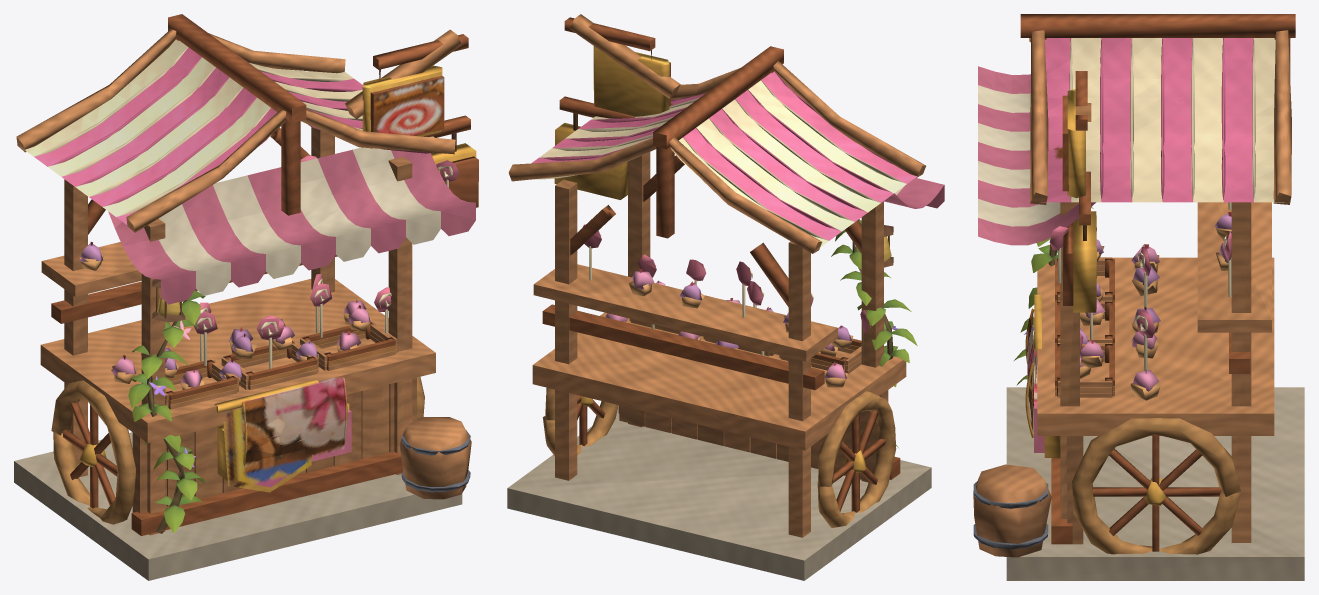
The model's file is stall_sweets.glb.
The picture shows the model from 3 angles, left to right: view 1: azimuth 30°, elevation 25°; view 2: azimuth 150°, elevation 25°; view 3: azimuth 270°, elevation 25°; orthographic projection. The views are drawn at different scales.
Parts seen in each view (by area): view 1: Body; view 2: Body; view 3: Body.
Boxes of the visible parts, left/top/right/bottom form: Body: left=14, top=14, right=478, bottom=580; Body: left=507, top=14, right=944, bottom=580; Body: left=973, top=14, right=1304, bottom=580.
Bounding box in the file's own units: 2.83 × 3.27 × 2.01.
1 material, 1 textured.
